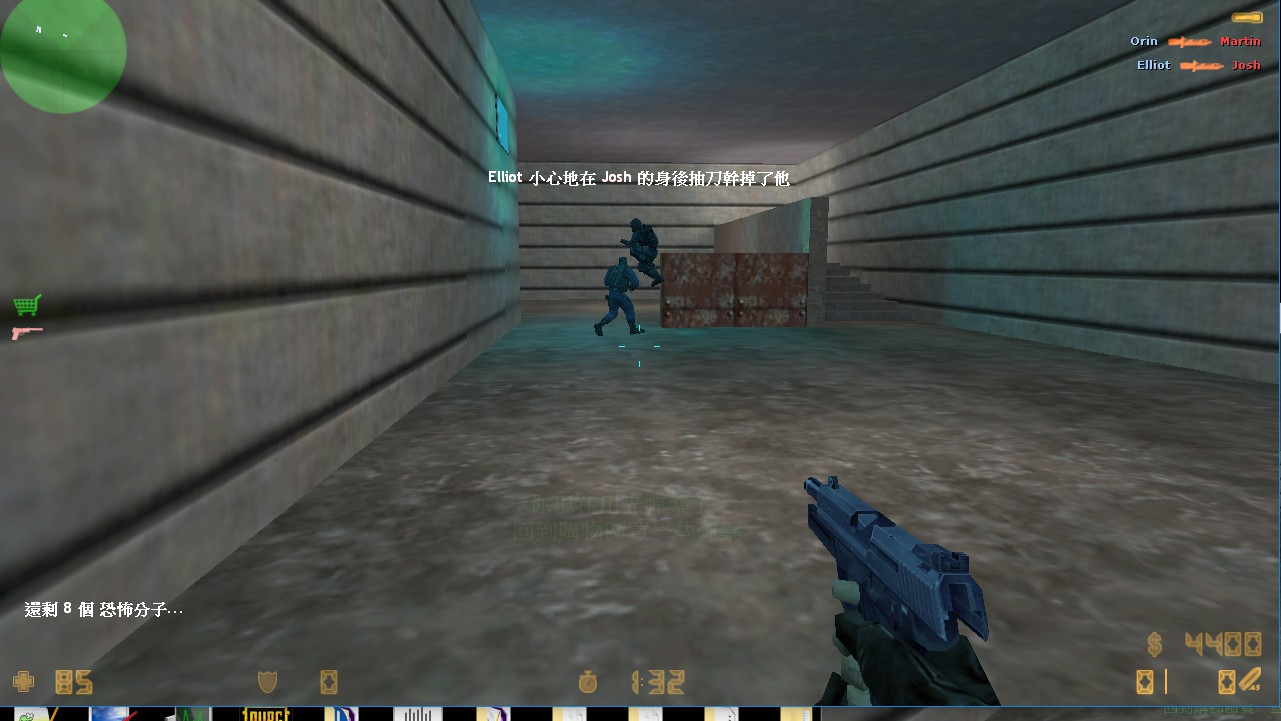person: (593, 250, 638, 336), (621, 215, 664, 288)
